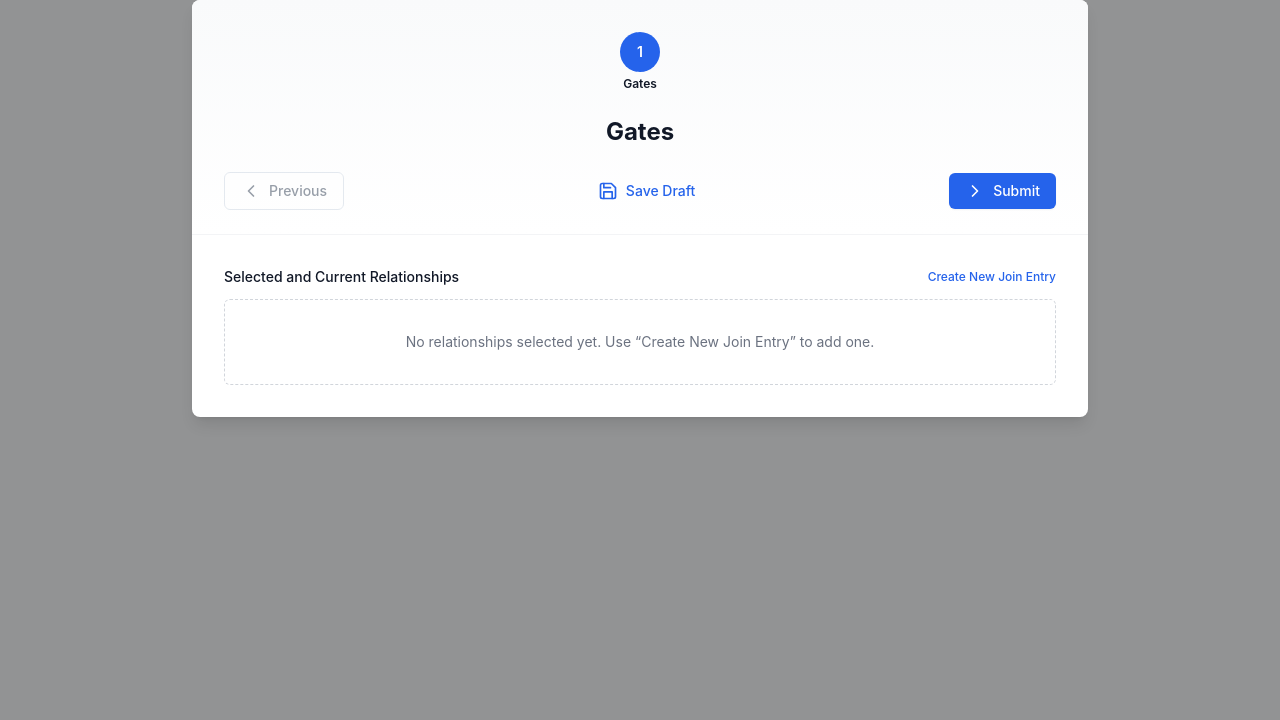
Test: Siege authoring: scenario Gates M2M with three join fields (edit mode) › blocks the owner-team picker while the scenario is unsaved (no id to scope teams to)
This screenshot has width=1280, height=720.
Click the button "Create New Join Entry" at (992, 277), box [928, 269, 1056, 285]
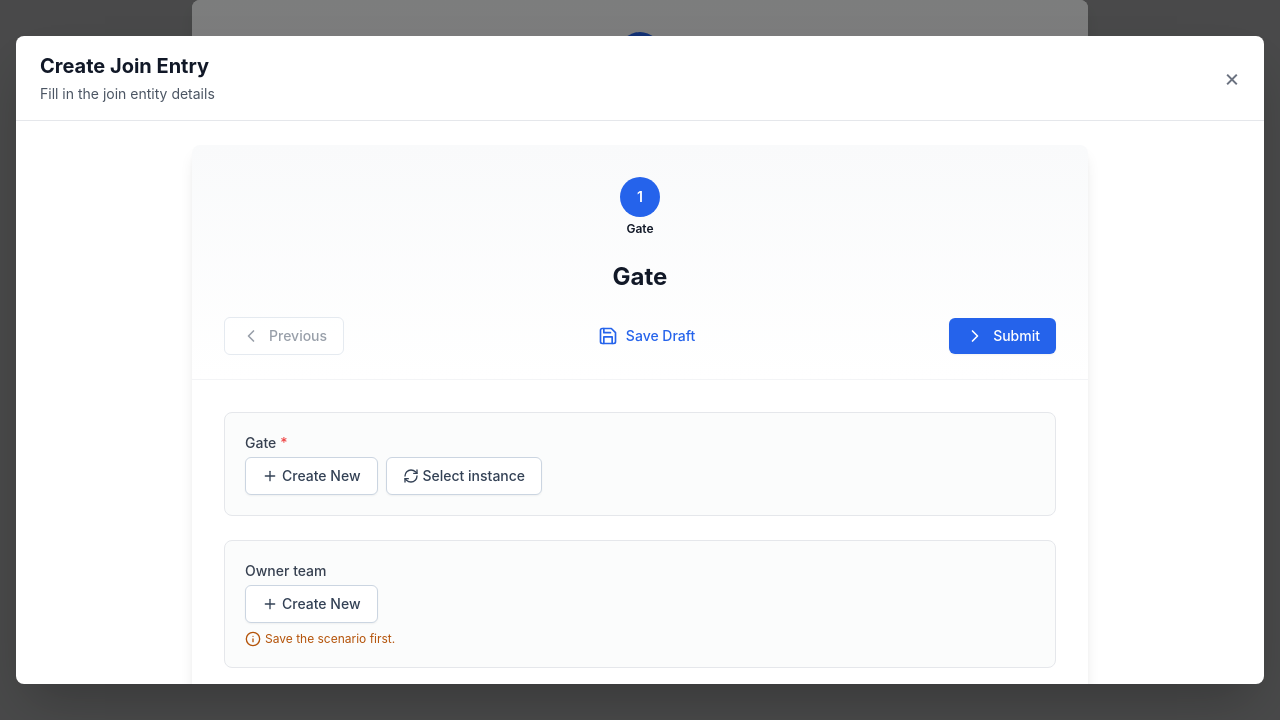
Now the heading "Create Join Entry" is shown, box [40, 52, 215, 80]
Now the text "Save the scenario first." is shown, box [245, 631, 395, 647]
